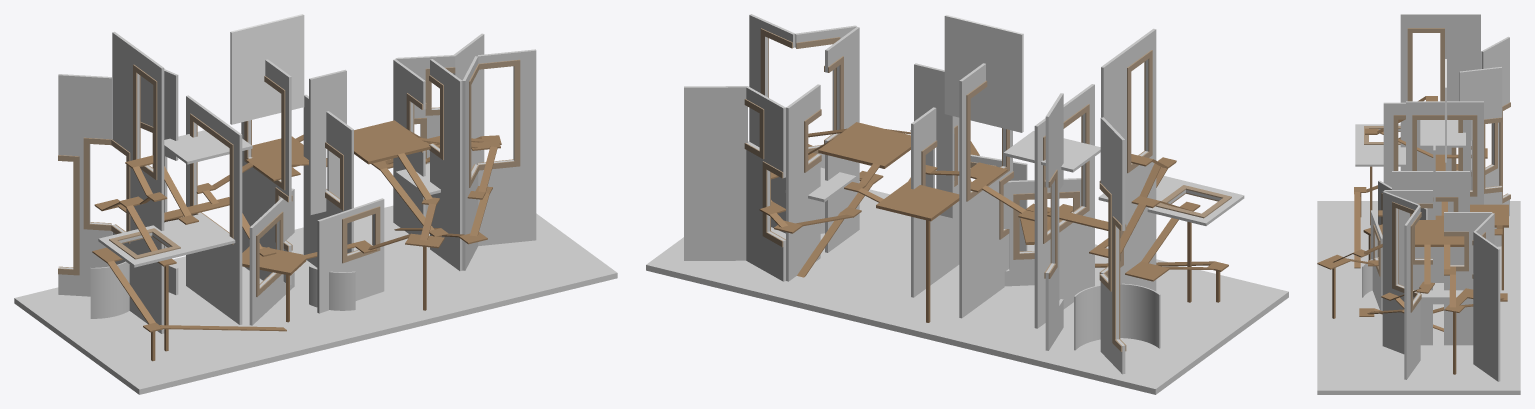
The picture shows the model from 3 angles, left to right: view 1: azimuth 30°, elevation 25°; view 2: azimuth 150°, elevation 25°; view 3: azimuth 270°, elevation 25°; orthographic projection. The views are drawn at different scales.
Visible parts, largest first — view 1: dizuo, 对象004, 对象008, 对象007, lujing; view 2: dizuo, 对象007, 对象004, 对象008, lujing; view 3: dizuo, 对象007, 对象004, 对象008, lujing.
Boxes of the visible parts, <box> form: dizuo: <box>14,205,617,394</box>; 对象004: <box>58,31,252,333</box>; 对象008: <box>230,14,384,325</box>; 对象007: <box>393,33,536,270</box>; lujing: <box>92,120,501,361</box>; dizuo: <box>646,189,1288,394</box>; 对象007: <box>684,14,859,281</box>; 对象004: <box>1003,28,1244,374</box>; 对象008: <box>911,15,1081,318</box>; lujing: <box>759,122,1228,322</box>; dizuo: <box>1317,201,1520,394</box>; 对象007: <box>1382,190,1500,381</box>; 对象004: <box>1355,14,1510,246</box>; 对象008: <box>1362,59,1483,310</box>; lujing: <box>1317,96,1508,374</box>.
Size of the model in its own units: 9.23 by 5 by 4.18.
